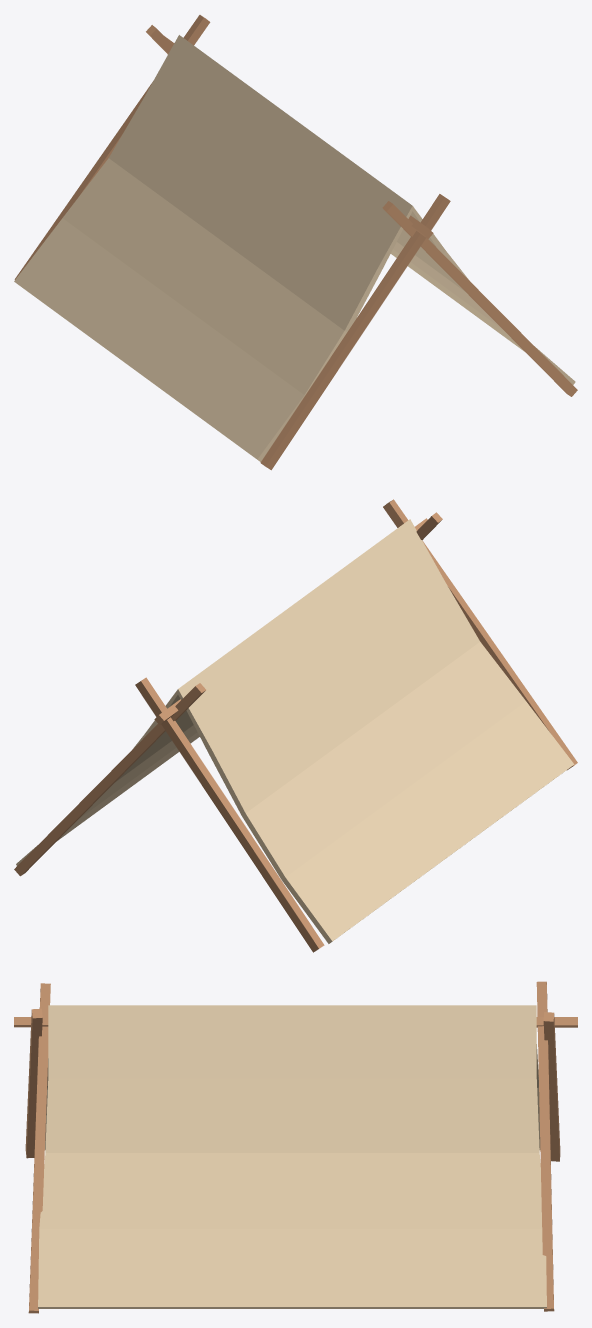
Rendered from 中帐篷.fbx.
3 renders of one model, top to bottom at view 1: azimuth 30°, elevation 25°; view 2: azimuth 150°, elevation 25°; view 3: azimuth 270°, elevation 25°, orthographic. The views are drawn at different scales.
Visible parts, largest first — view 1: Cylinder.007, Cube.017, Cube.015; view 2: Cylinder.007, Cube.017, Cube.015; view 3: Cylinder.007, Cube.015, Cube.017, Cube.018.
Part boxes in pixels (box(x1,y1,x2,y2)): Cylinder.007: box(14, 35, 575, 461); Cube.017: box(14, 15, 450, 470); Cube.015: box(146, 25, 577, 396); Cylinder.007: box(16, 519, 574, 943); Cube.017: box(135, 499, 577, 952); Cube.015: box(14, 512, 442, 876); Cylinder.007: box(38, 1005, 546, 1308); Cube.015: box(28, 981, 554, 1313); Cube.017: box(25, 1008, 560, 1161); Cube.018: box(14, 1017, 577, 1027).
Bounding box in the file's own units: 275 × 193 × 403.
